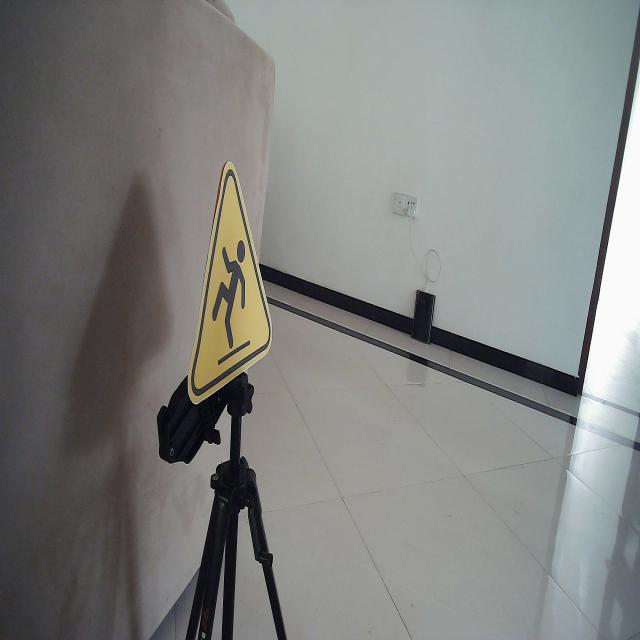slippery_sign: (186, 159, 274, 408)
